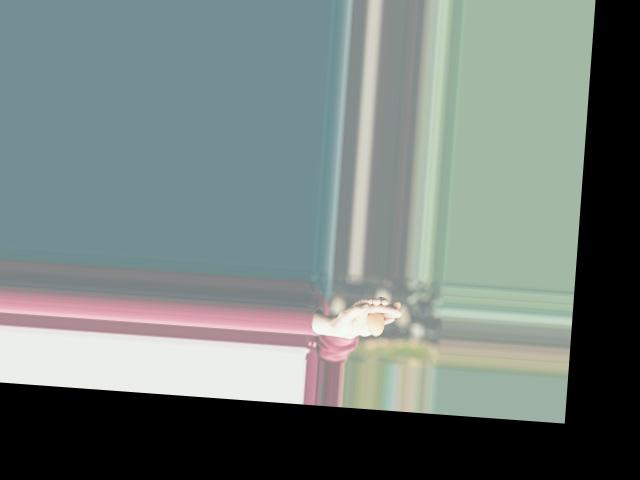egg: (365, 312, 384, 336)
